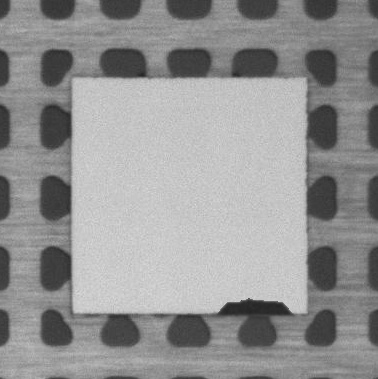DIE_BROKEN: (214, 297, 294, 317)
